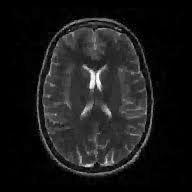Normal_Brain: (21, 2, 171, 192)
